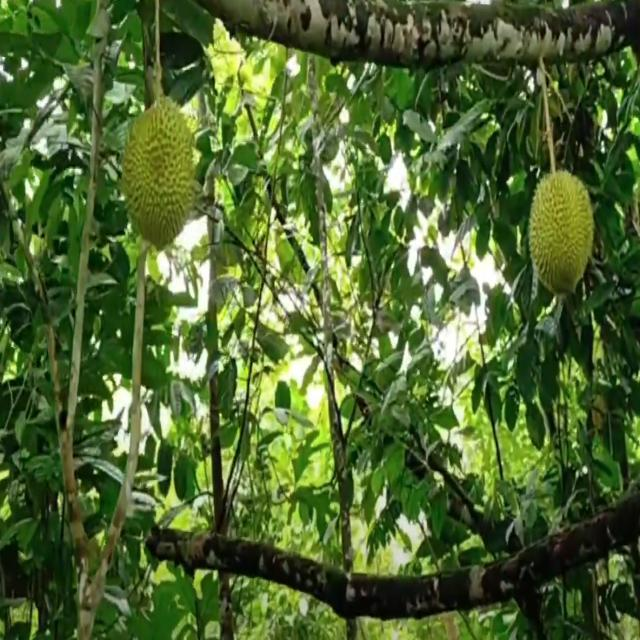immature: (119, 94, 193, 252), (531, 165, 594, 298)
